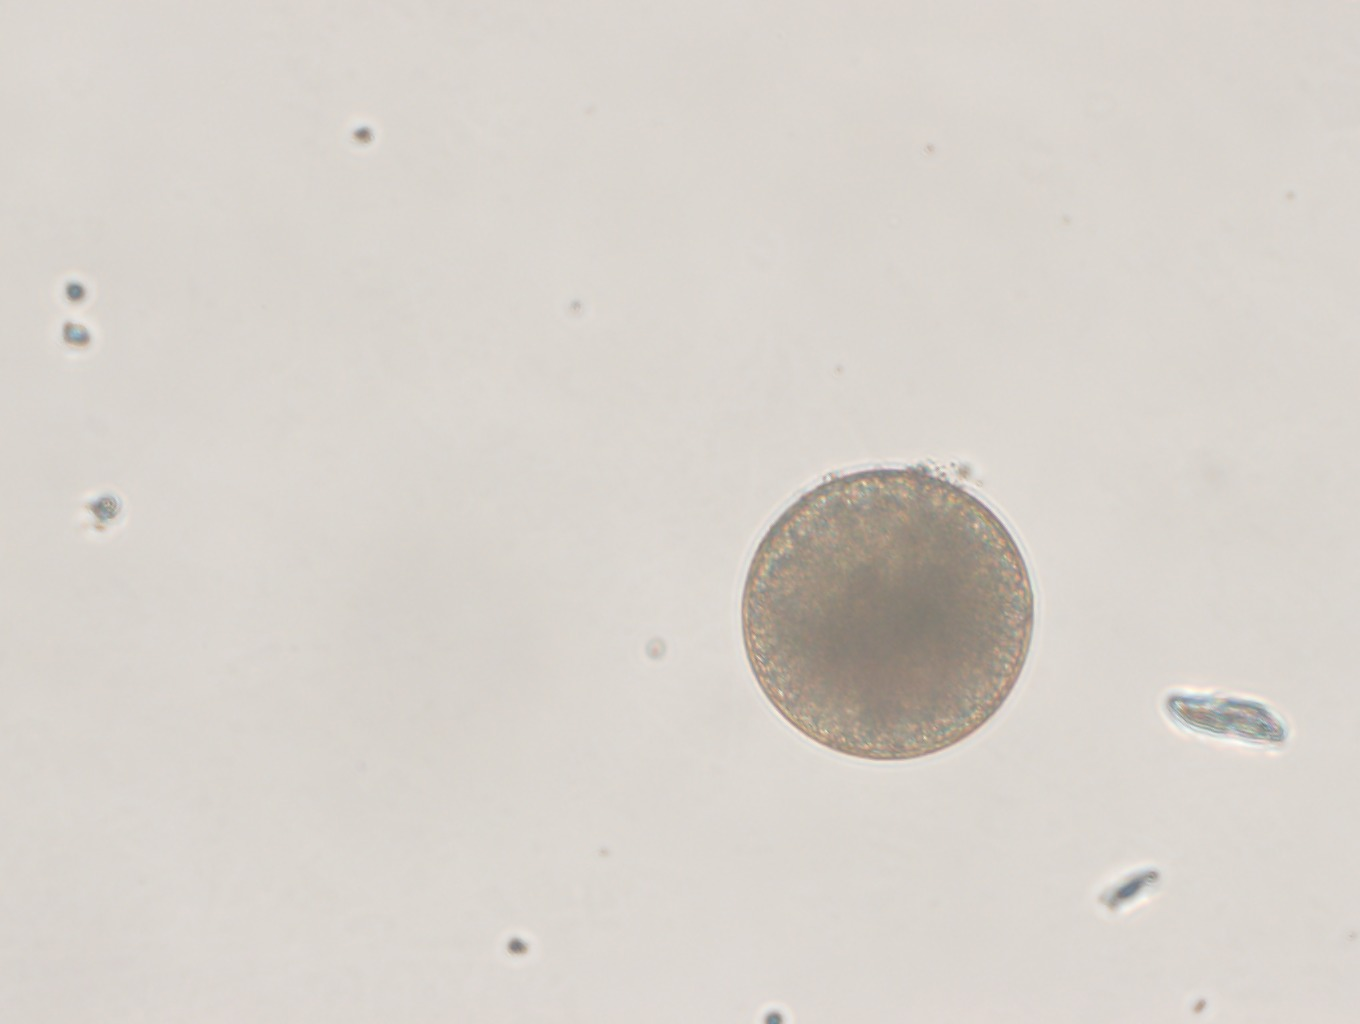coscinodiscus: (733, 455, 1044, 770)
